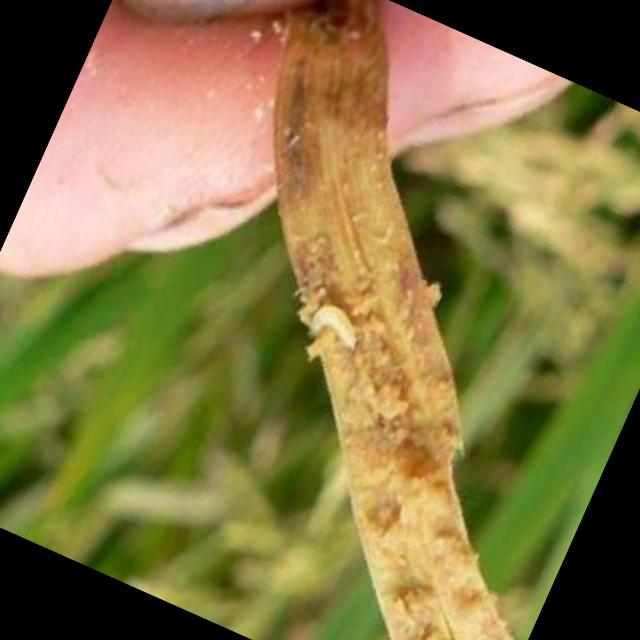whorl-maggot: (299, 292, 378, 370)
